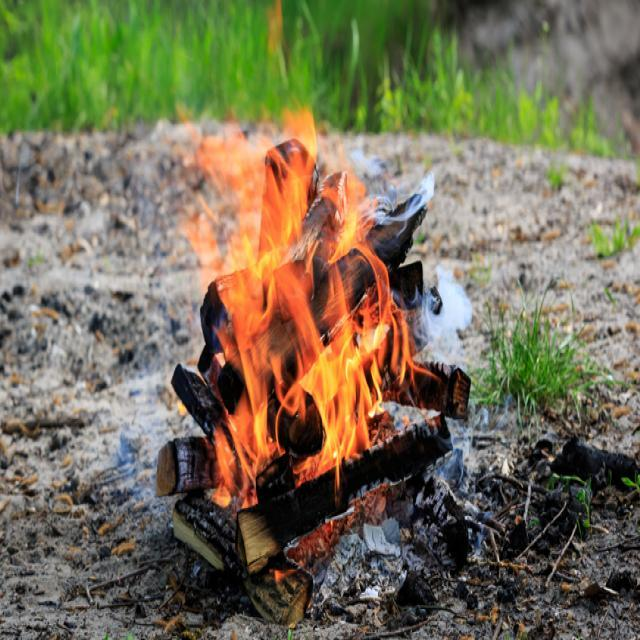Fire: (175, 111, 435, 540)
